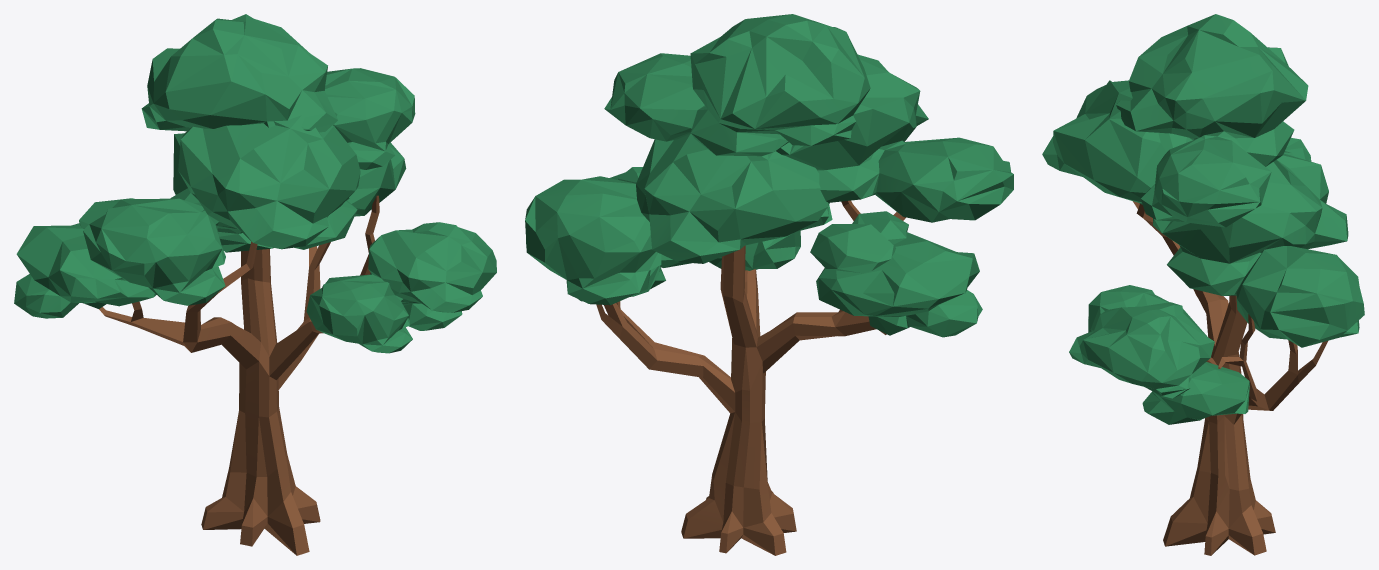
Rendered from Env_Tree_01.fbx.
3 renders of one model, left to right at view 1: azimuth 30°, elevation 25°; view 2: azimuth 150°, elevation 25°; view 3: azimuth 270°, elevation 25°, orthographic. The views are drawn at different scales.
Parts seen in each view (by area): view 1: Tree_01; view 2: Tree_01; view 3: Tree_01.
Boxes of the visible parts, x1,y1,x2,y2 form: Tree_01: [14, 14, 496, 555]; Tree_01: [525, 14, 1013, 555]; Tree_01: [1042, 14, 1364, 555].
Bounding box in the file's own units: 1745 × 2029 × 1187.
